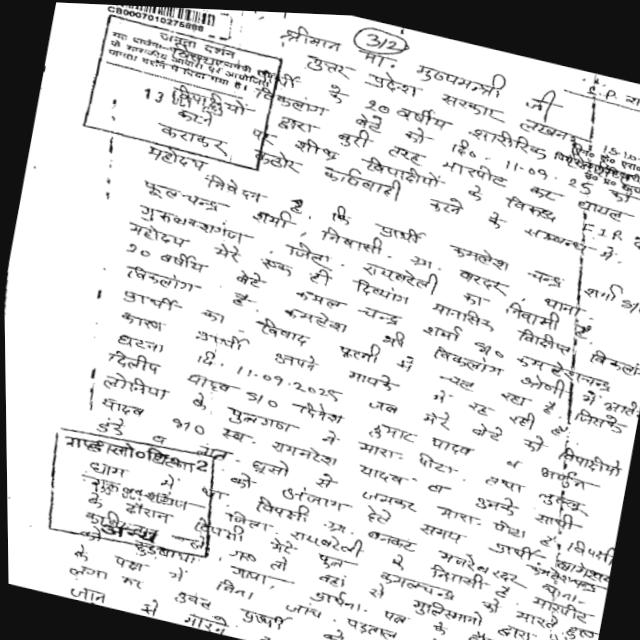antritgovtstamp: (38, 423, 225, 566)
barcode: (86, 4, 241, 44)
jantadarsan: (73, 10, 301, 181)
